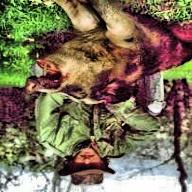boar: (25, 17, 188, 111)
